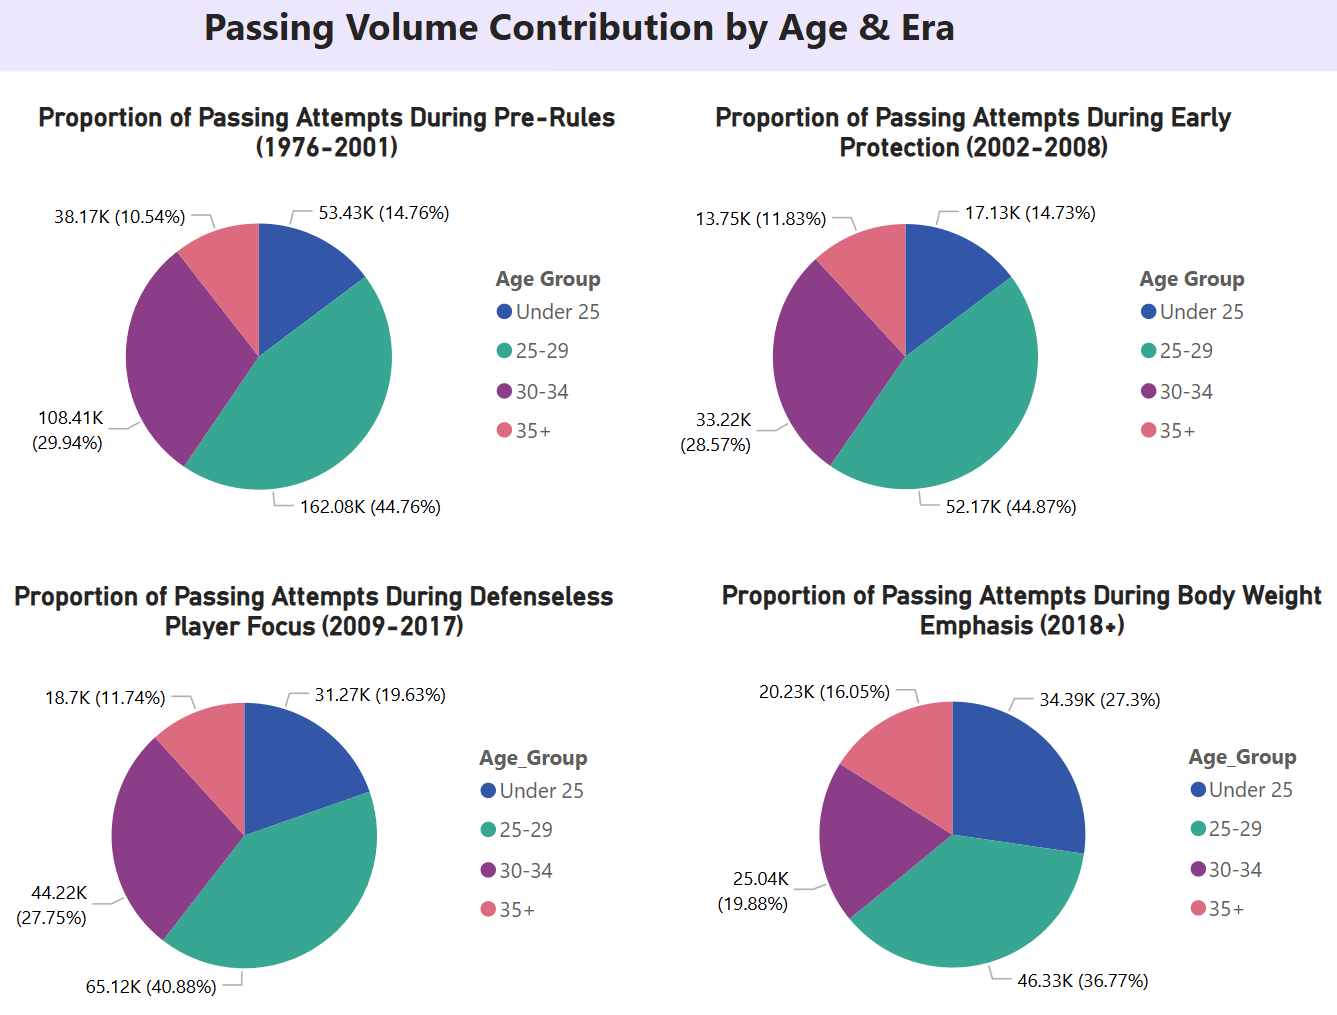

What the dashboard file says about the page in this screenshot:
{"tool":"powerbi","page":{"name":"Age Dive","canvas":[1280,720],"ordinal":5},"visuals":[{"type":"pieChart","title":"Proportion of Passing Attempts During Pre-Rules (1976-2001)","fields":{"Y":["pass_cleaned.Total Passing Attempts Pre-Rules"],"Category":["pass_cleaned.Age_Group"]},"box":[278.1,70.2,400.1,290.1],"z":0},{"type":"pieChart","title":"Proportion of Passing Attempts During Early Protection (2002-2008)","fields":{"Category":["pass_cleaned.Age_Group"],"Y":["pass_cleaned.Total Passing Attempts Early Protection"]},"box":[694,70.2,397,290.1],"z":1000},{"type":"pieChart","title":"Proportion of Passing Attempts During Defenseless Player Focus  (2009-2017)","fields":{"Category":["pass_cleaned.Age_Group"],"Y":["pass_cleaned.Total Passing Attempts Defenseless Player Focus"]},"box":[269.3,377.4,400.1,290.1],"z":2000},{"type":"pieChart","title":"Proportion of Passing Attempts During Body Weight Emphasis (2018+)","fields":{"Category":["pass_cleaned.Age_Group"],"Y":["pass_cleaned.Total Passing Attempts Body Weight Emphasis"]},"box":[723.1,376.5,401.6,290.2],"z":3000},{"type":"actionButton","box":[0,0,100,40],"z":4000},{"type":"textbox","box":[0,0,1280,50.7],"z":6000}]}

Visuals, with their boxes on the page's 1280x720 design canvas (x1, y1, x2, y2). These are canvas units, not pixel positions in the 1337x1015 screenshot, which may show the page scaled, cropped or inside an application window:
"Proportion of Passing Attempts During Pre-Rules (1976-2001)" pieChart: bbox=[278, 70, 678, 360]
"Proportion of Passing Attempts During Early Protection (2002-2008)" pieChart: bbox=[694, 70, 1091, 360]
"Proportion of Passing Attempts During Defenseless Player Focus  (2009-2017)" pieChart: bbox=[269, 377, 669, 668]
"Proportion of Passing Attempts During Body Weight Emphasis (2018+)" pieChart: bbox=[723, 376, 1125, 667]
actionButton: bbox=[0, 0, 100, 40]
textbox: bbox=[0, 0, 1280, 51]
